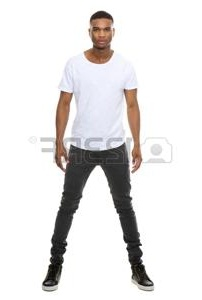arm: (123, 55, 143, 144), (57, 54, 73, 138)
chest: (73, 64, 123, 147)
face: (89, 11, 115, 46)
foot: (130, 264, 158, 293), (42, 262, 62, 290)
hand: (54, 140, 67, 171), (131, 143, 142, 174)
leg: (96, 164, 148, 264), (49, 164, 97, 263)
neck: (86, 46, 120, 64)
